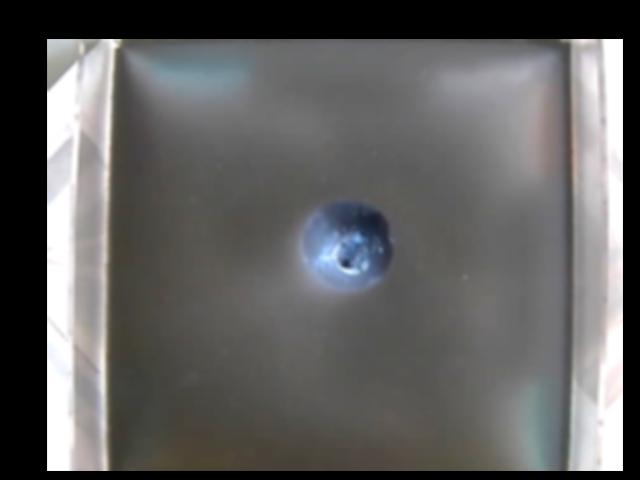Mooli: (298, 201, 392, 290)
